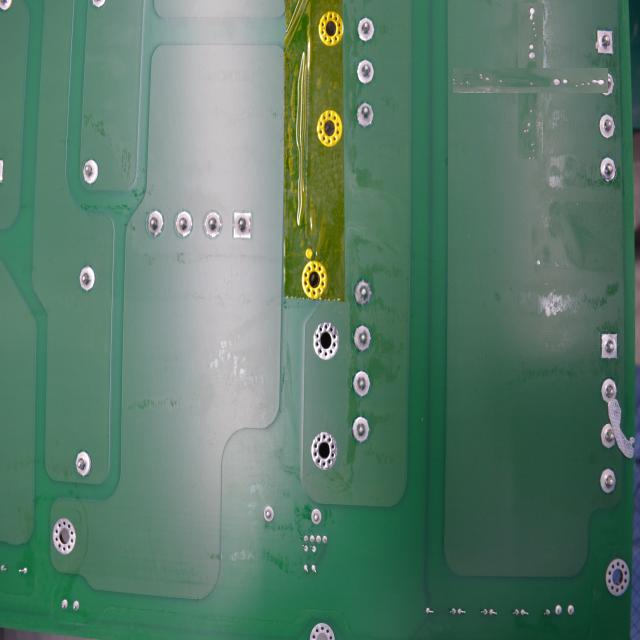spillover: (485, 36, 576, 126), (534, 253, 544, 273)
